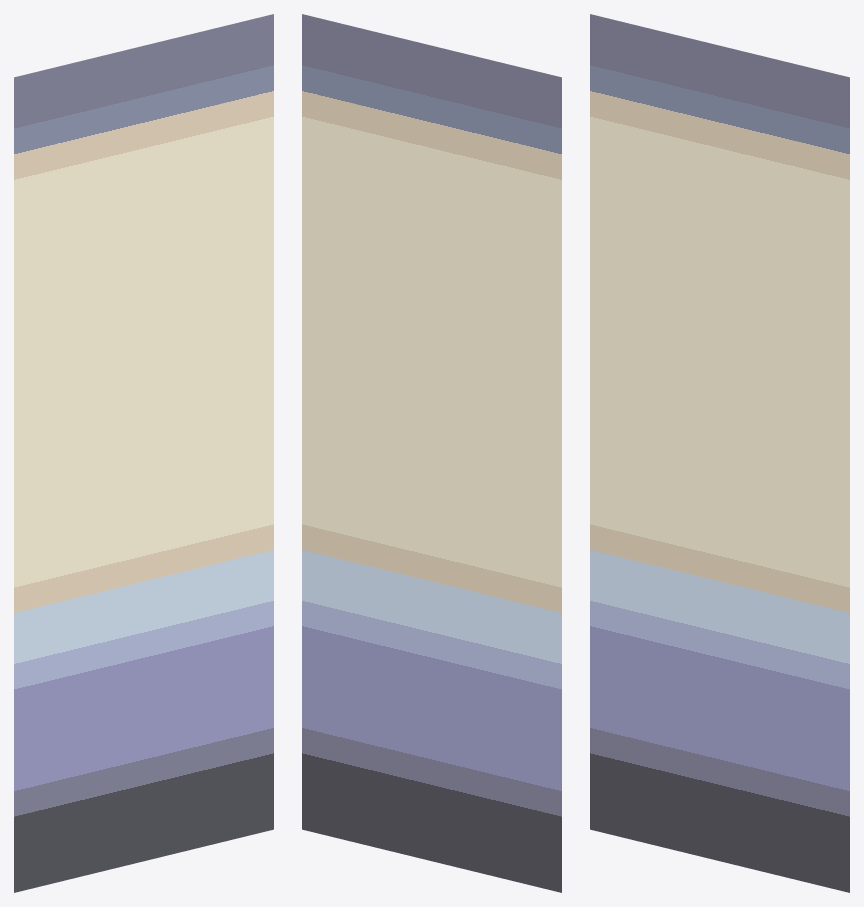
3 views of the same model, side by side, from view 1: azimuth 30°, elevation 25°; view 2: azimuth 150°, elevation 25°; view 3: azimuth 330°, elevation 25° (orthographic).
Bounding box in the file's own units: 1 × 3 × 0.
Materials: 1 (1 with a texture image).
